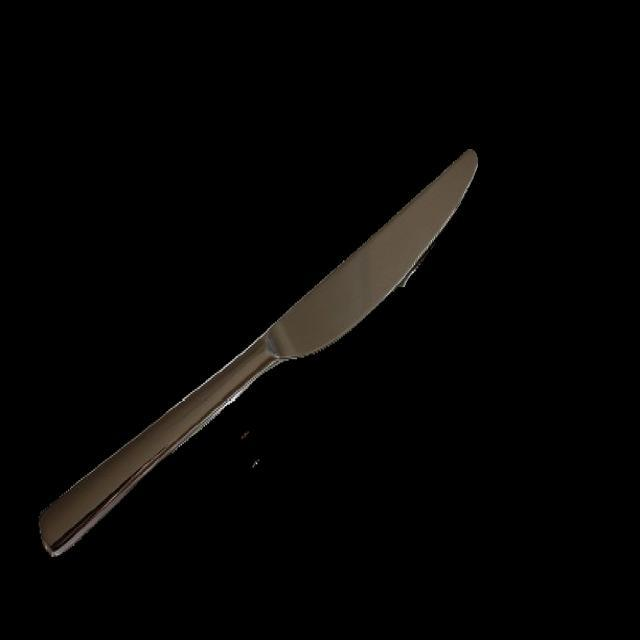knife: (30, 143, 480, 566)
